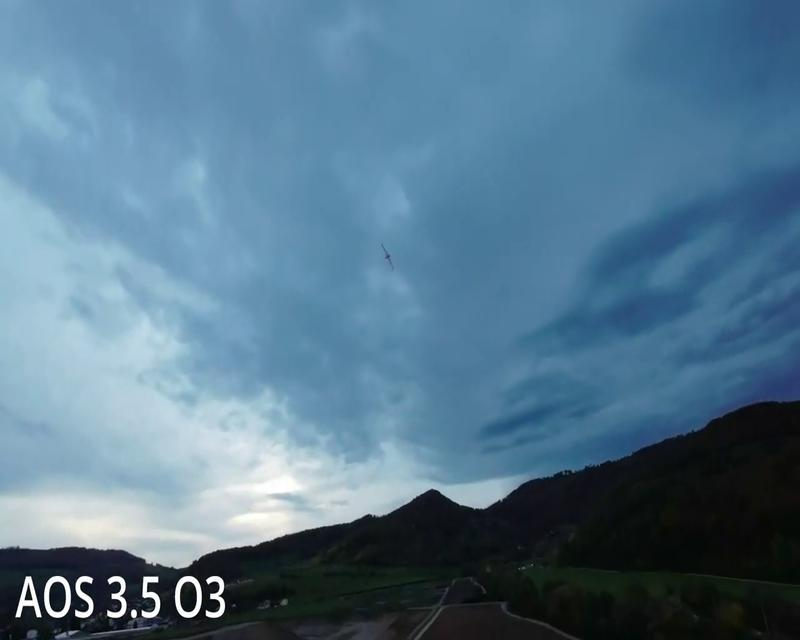UAV: (381, 243, 394, 271)
